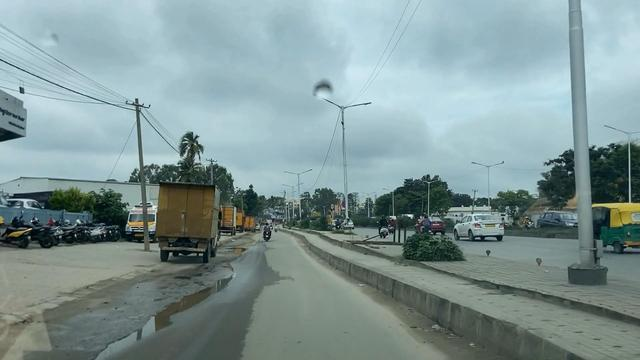HMV: (156, 182, 217, 262)
